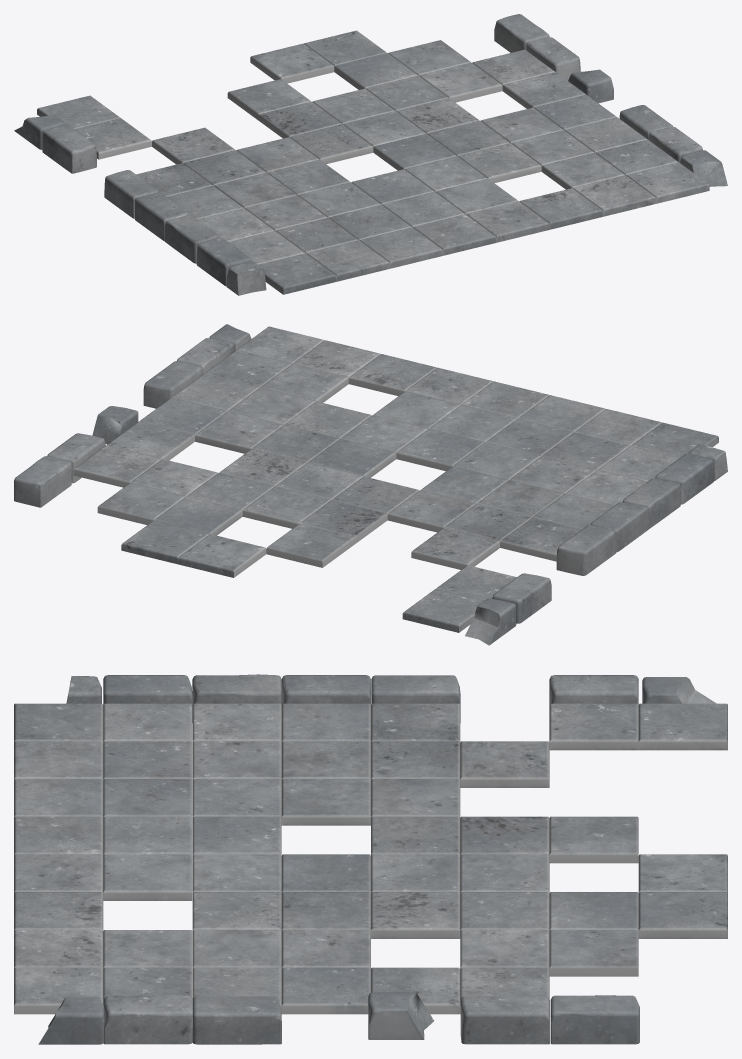
File: road_tile_02.fbx
3 renders of one model, top to bottom at view 1: azimuth 30°, elevation 25°; view 2: azimuth 150°, elevation 25°; view 3: azimuth 270°, elevation 25°, orthographic. The views are drawn at different scales.
Visible parts, largest first — view 1: road_tile_2; view 2: road_tile_2; view 3: road_tile_2.
Part boxes in pixels (<box>): road_tile_2: <box>14,14,727,295</box>; road_tile_2: <box>14,324,727,645</box>; road_tile_2: <box>14,674,727,1044</box>.
Size of the model in its own units: 18.01 by 0.8671 by 16.
